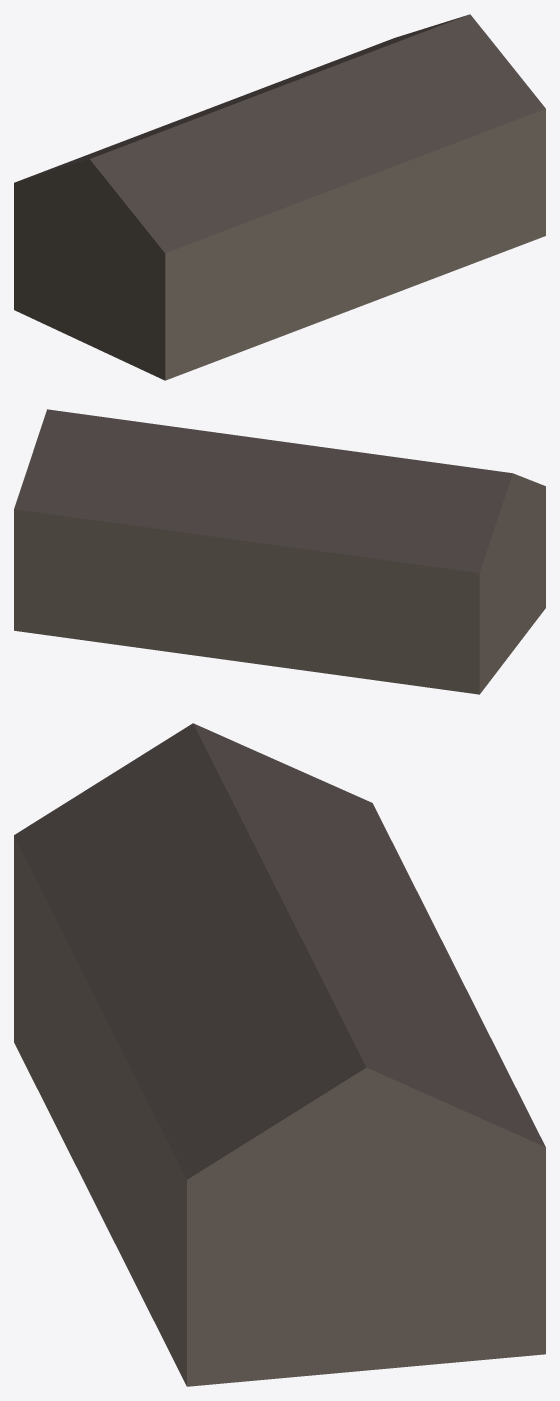
The picture shows the model from 3 angles, top to bottom: view 1: azimuth 30°, elevation 25°; view 2: azimuth 150°, elevation 25°; view 3: azimuth 270°, elevation 25°; orthographic projection. The views are drawn at different scales.
Parts seen in each view (by area): view 1: HP-w1200835411; view 2: HP-w1200835411; view 3: HP-w1200835411.
Part boxes in pixels (x1,y1,x2,y2): HP-w1200835411: (14,14,545,380); HP-w1200835411: (14,409,545,694); HP-w1200835411: (14,723,545,1386).
Size of the model in its own units: 23.44 by 8.79 by 13.98.
